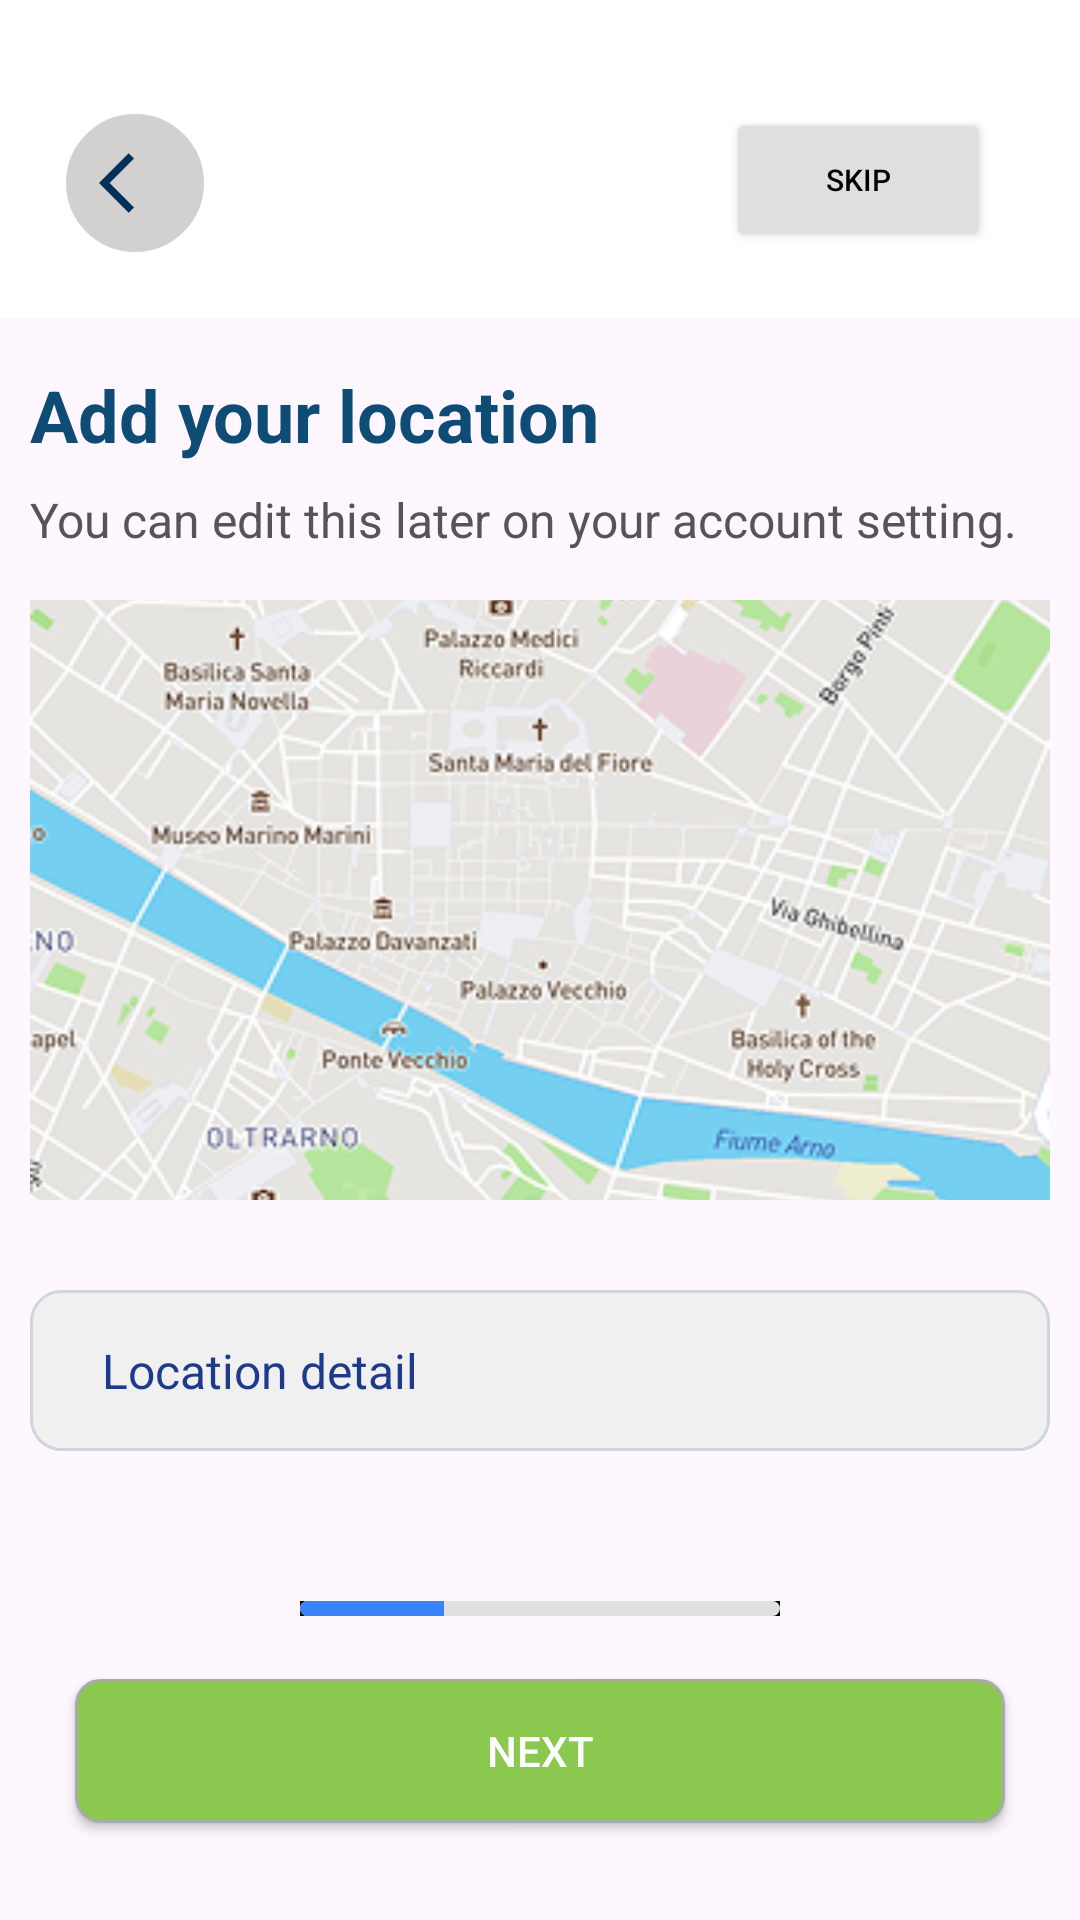

Named icons in this screenshot (1080 × 1920) and their centers, point (x, y):
arrow back: point (135, 183)
